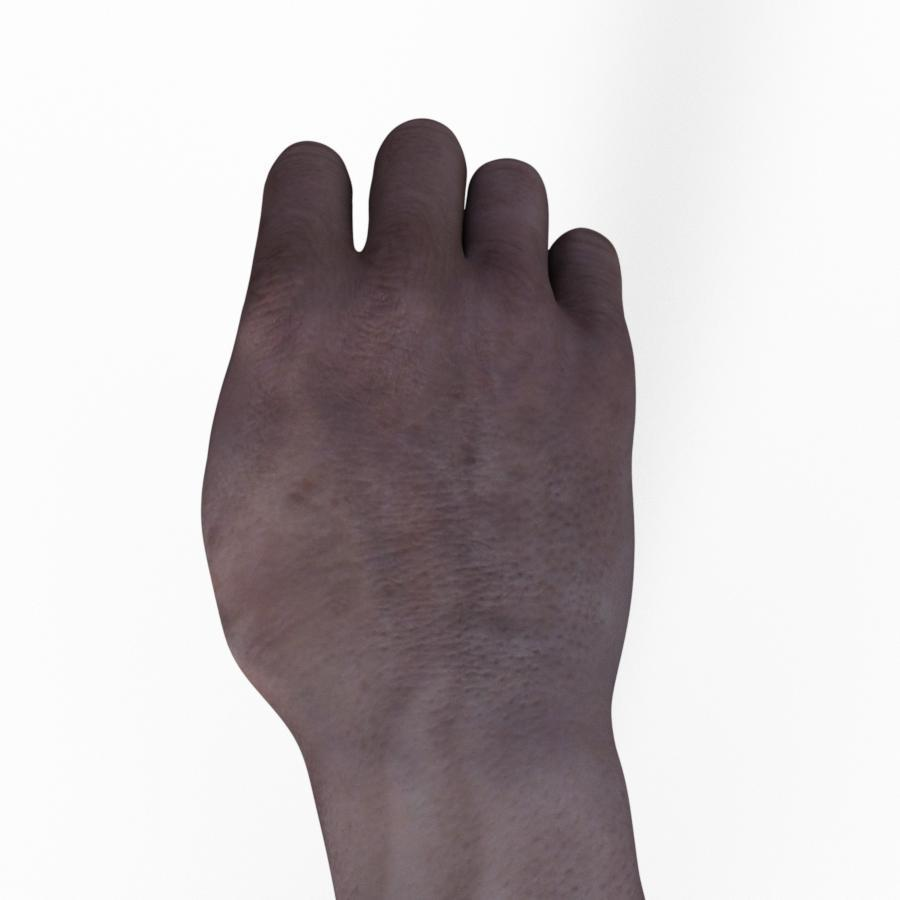rock: (202, 120, 643, 900)
